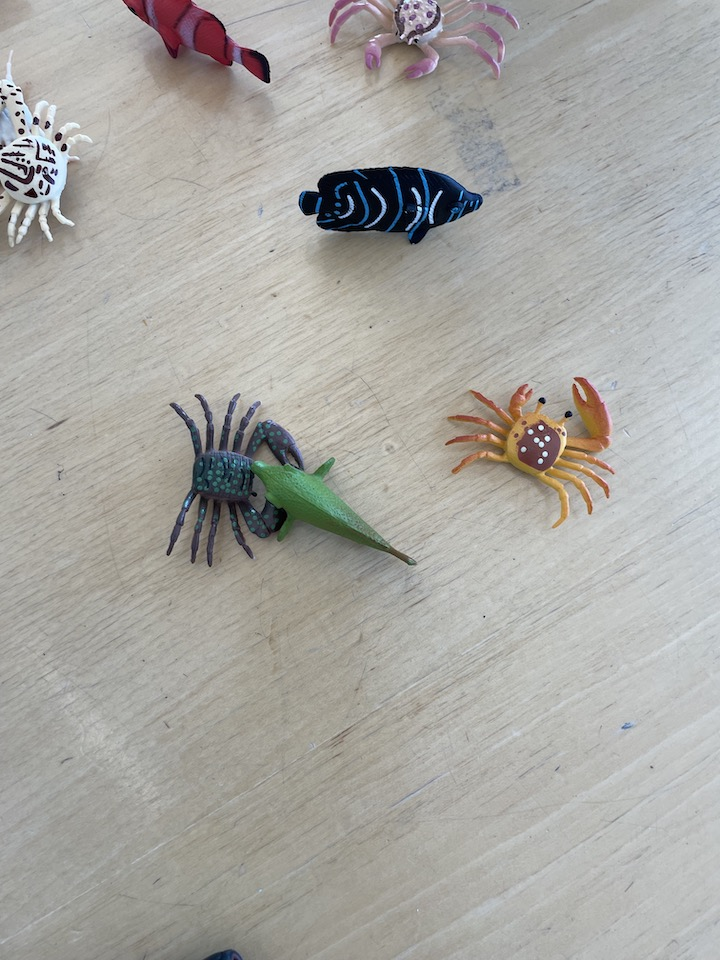crab: (440, 367, 620, 532), (1, 49, 98, 245), (323, 1, 522, 86)
fish: (165, 392, 308, 579), (247, 450, 423, 576), (296, 163, 487, 246), (117, 1, 277, 89)
